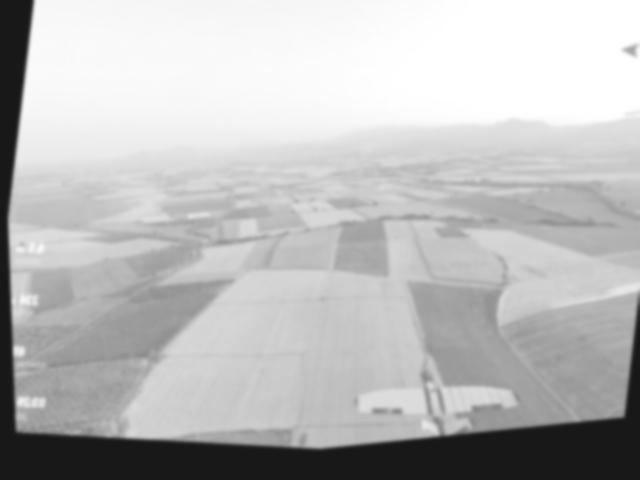hedef: (336, 342, 526, 453)
